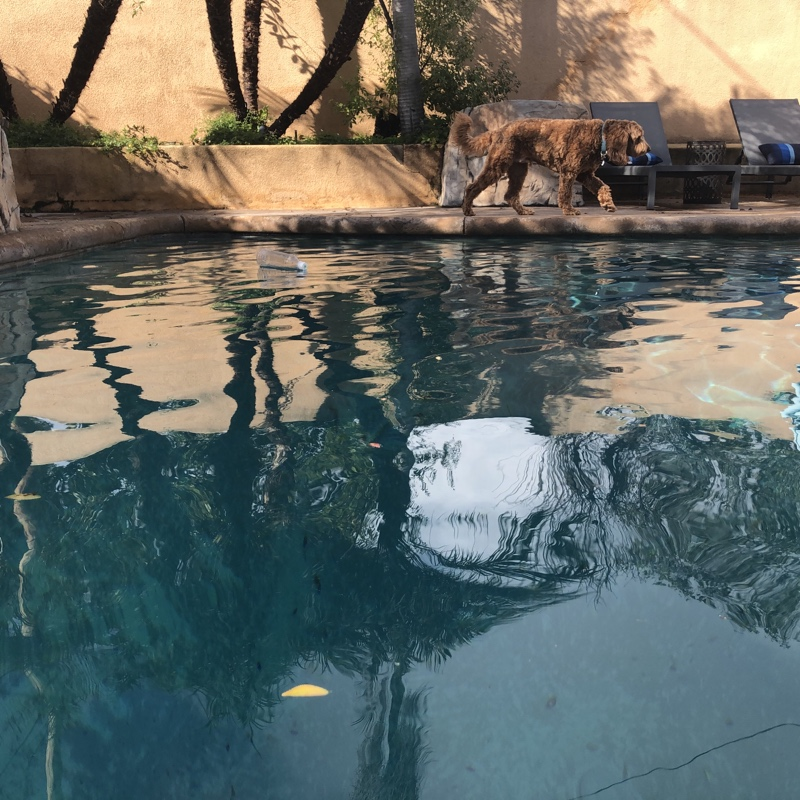Plastic Bottle: (255, 250, 307, 274)
